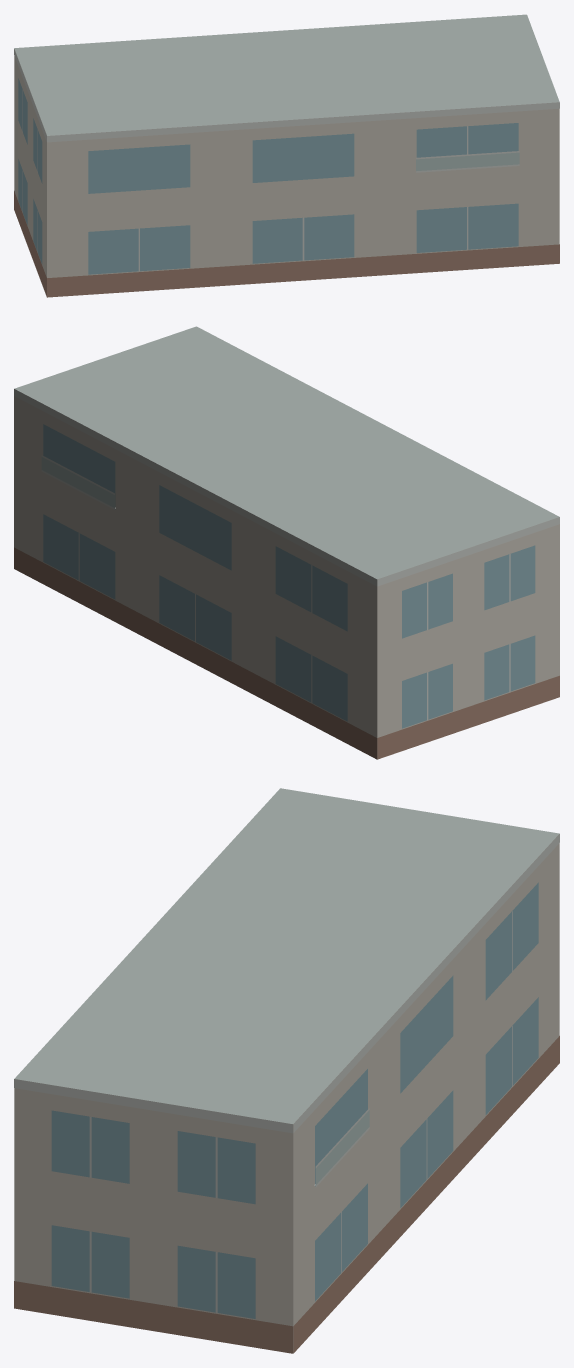
File: survey-upis-32962939.glb
3 views of the same model, one above another, from view 1: azimuth 30°, elevation 25°; view 2: azimuth 150°, elevation 25°; view 3: azimuth 270°, elevation 25° (orthographic). The views are drawn at different scales.
Parts seen in each view (by area): view 1: survey-upis-32962939.tmp; view 2: survey-upis-32962939.tmp; view 3: survey-upis-32962939.tmp.
Boxes of the visible parts, bbox=[...] form: survey-upis-32962939.tmp: bbox=[14, 14, 559, 297]; survey-upis-32962939.tmp: bbox=[14, 326, 559, 759]; survey-upis-32962939.tmp: bbox=[14, 788, 559, 1353].
Bounding box in the file's own units: 19.17 × 6.1 × 13.15.
